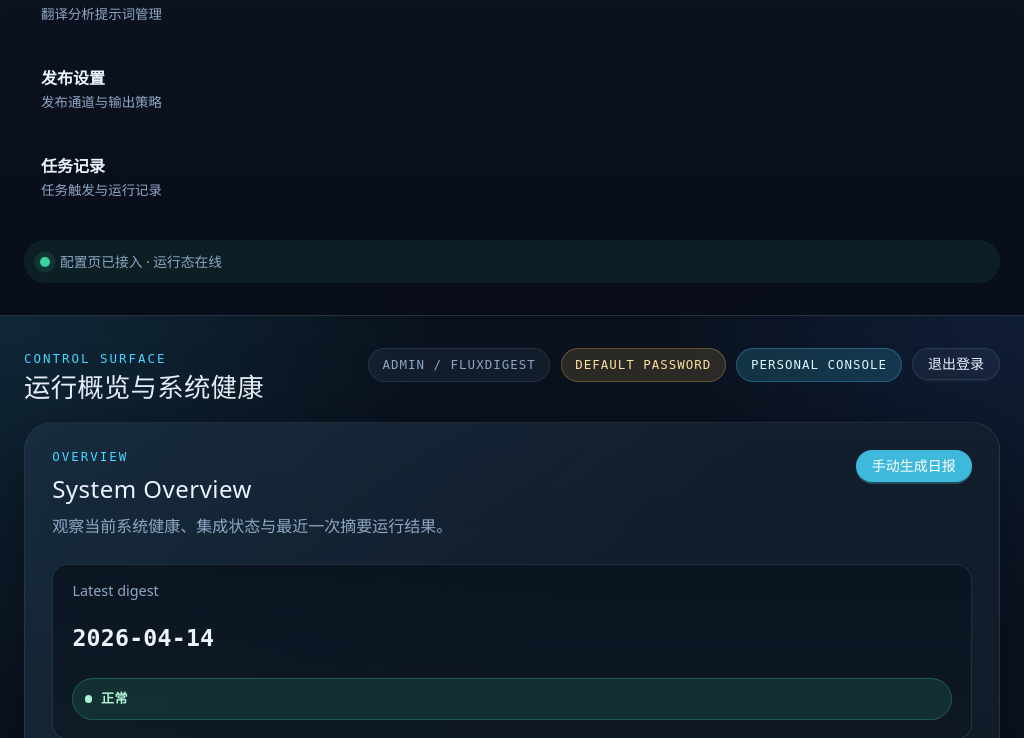
Test: logout failure stays on protected route and shows feedback
(page scrolled)
Expected: the heading "运行概览与系统健康" is shown, x1=24 y1=372 x2=264 y2=403
Click the button "退出登录": (956, 364) x1=912 y1=348 x2=1000 y2=380
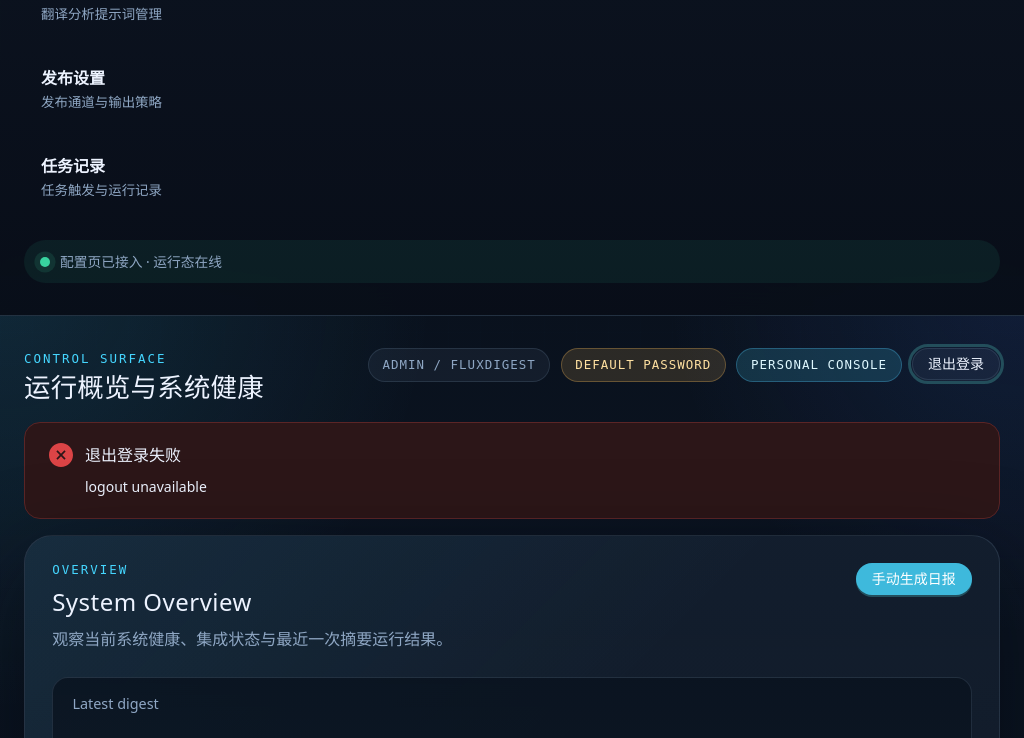
Expected: the heading "运行概览与系统健康" is shown, x1=24 y1=372 x2=264 y2=403
Expected: the text "logout unavailable" is shown, x1=85 y1=477 x2=207 y2=496
